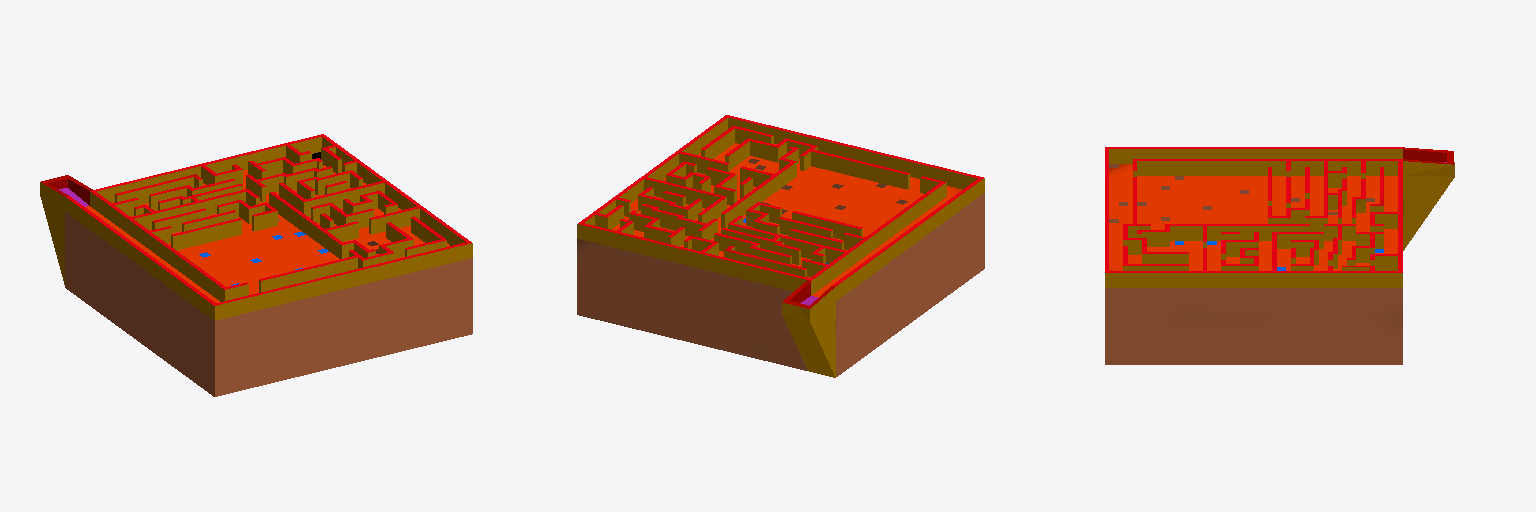
3 renders of one model, left to right at view 1: azimuth 30°, elevation 25°; view 2: azimuth 150°, elevation 25°; view 3: azimuth 270°, elevation 25°, orthographic.
Parts seen in each view (by area): view 1: Cube.001; view 2: Cube.001; view 3: Cube.001.
Part boxes in pixels (left/top/right/bottom): Cube.001: left=40, top=134, right=472, bottom=396; Cube.001: left=577, top=115, right=984, bottom=377; Cube.001: left=1105, top=147, right=1454, bottom=364.
Size of the model in its own units: 2 by 0.6752 by 2.35.
Materials: 1 (1 with a texture image).